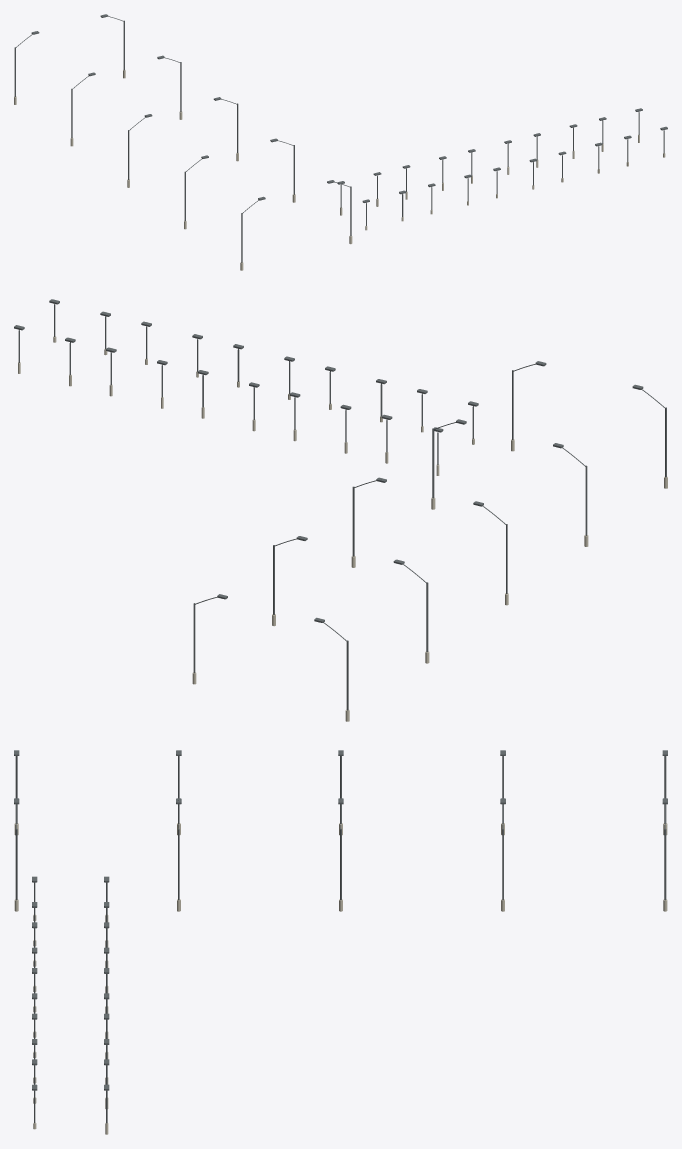
3 views of the same model, one above another, from view 1: azimuth 30°, elevation 25°; view 2: azimuth 150°, elevation 25°; view 3: azimuth 270°, elevation 25° (orthographic). The views are drawn at different scales.
Parts seen in each view (by area): view 1: buildings_s_-11_2_Dark_Metal, buildings_s_-11_2_Warm_Limestone; view 2: buildings_s_-11_2_Dark_Metal, buildings_s_-11_2_Warm_Limestone; view 3: buildings_s_-11_2_Dark_Metal, buildings_s_-11_2_Warm_Limestone.
Part boxes in pixels (box(x1,y1,x2,y2)): buildings_s_-11_2_Dark_Metal: box(14, 14, 667, 262); buildings_s_-11_2_Warm_Limestone: box(14, 70, 665, 270); buildings_s_-11_2_Dark_Metal: box(14, 299, 666, 710); buildings_s_-11_2_Warm_Limestone: box(18, 336, 667, 721); buildings_s_-11_2_Dark_Metal: box(14, 750, 667, 1123); buildings_s_-11_2_Warm_Limestone: box(14, 823, 667, 1134).
Size of the model in its own units: 119 by 17.75 by 109.
